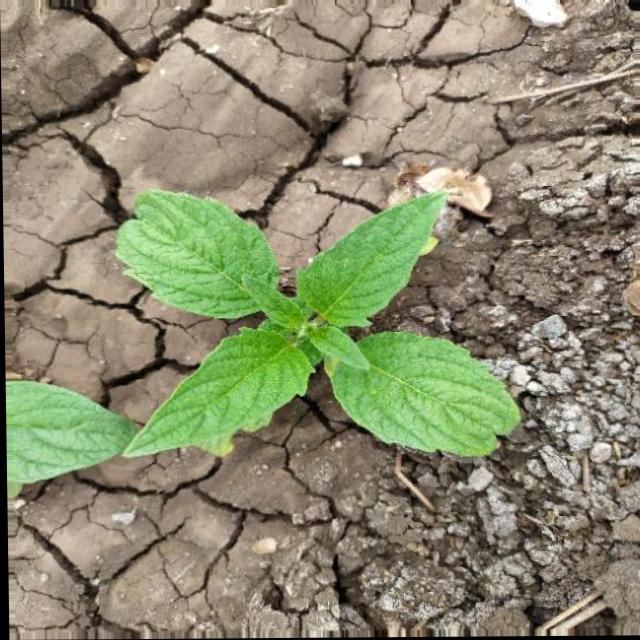crop: (119, 124, 533, 483)
